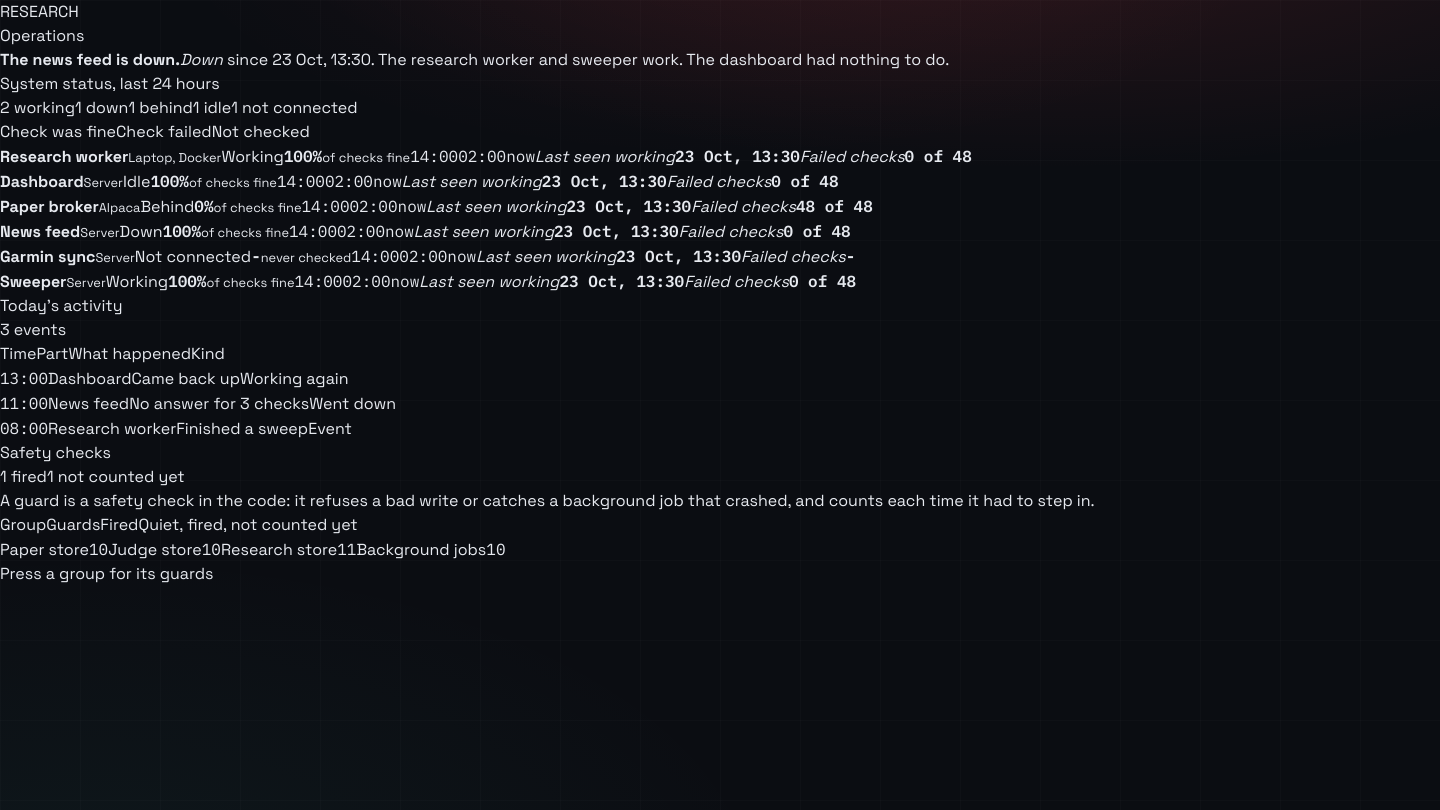
Test: Operations page › p12 the mockup's sections are all there, and a tile opens the part's failed checks
Expected: the heading "System status, last 24 hours" is shown, [0,73,220,94]
Expected: the heading "Today's activity" is shown, [0,295,122,316]
Click the button with test id "ops-system" that starts with "Paper broker" at (436, 206), box [0,194,873,219]
(page scrolled)
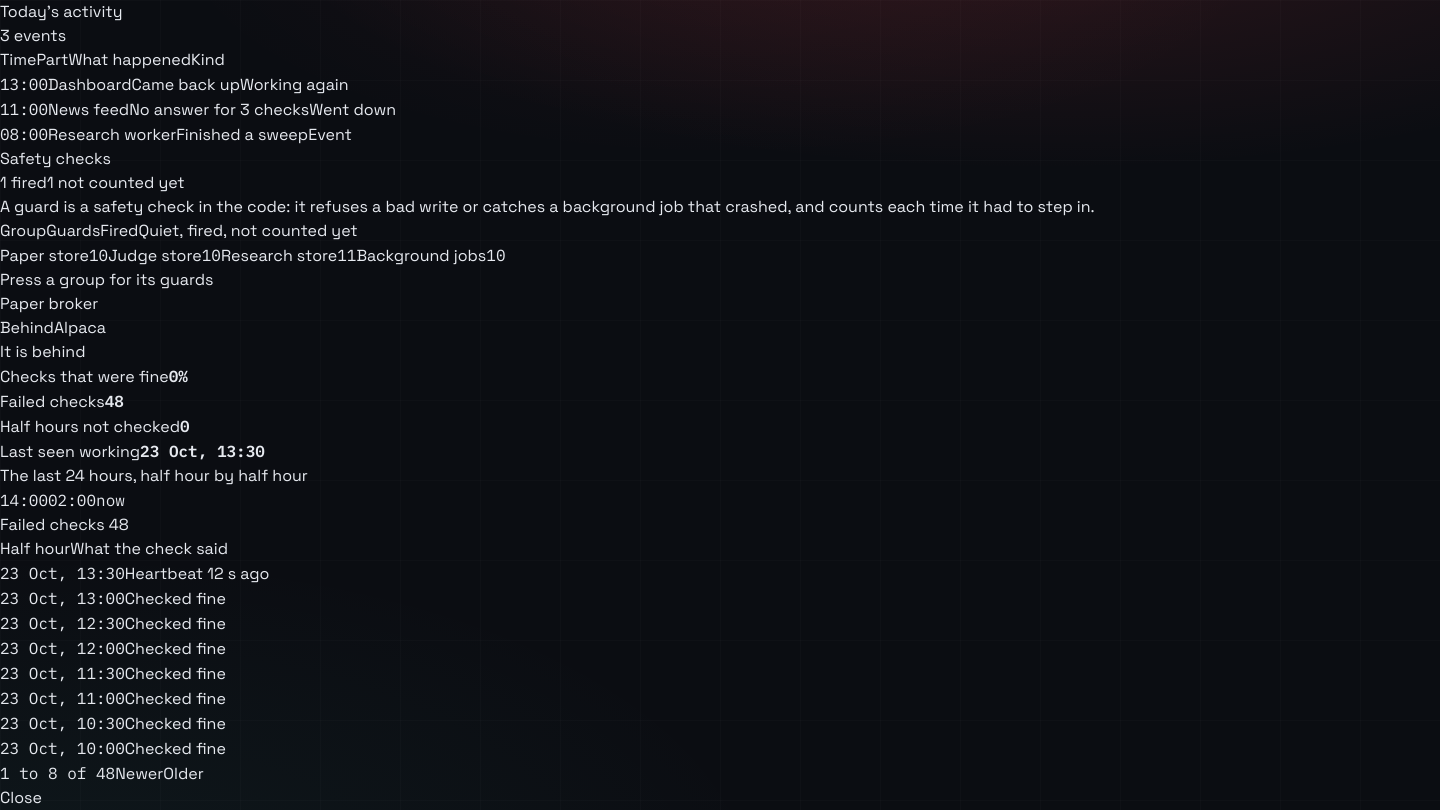
Expected: the dialog "Paper broker" shows "Failed checks", [0,391,105,412]
Expected: the dialog "Paper broker" shows "48", [105,391,124,411]
